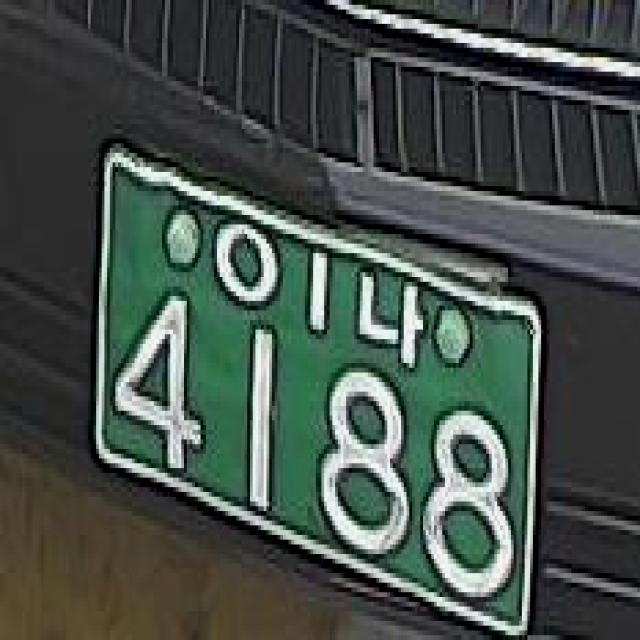illegal_plate: (80, 129, 563, 628)
